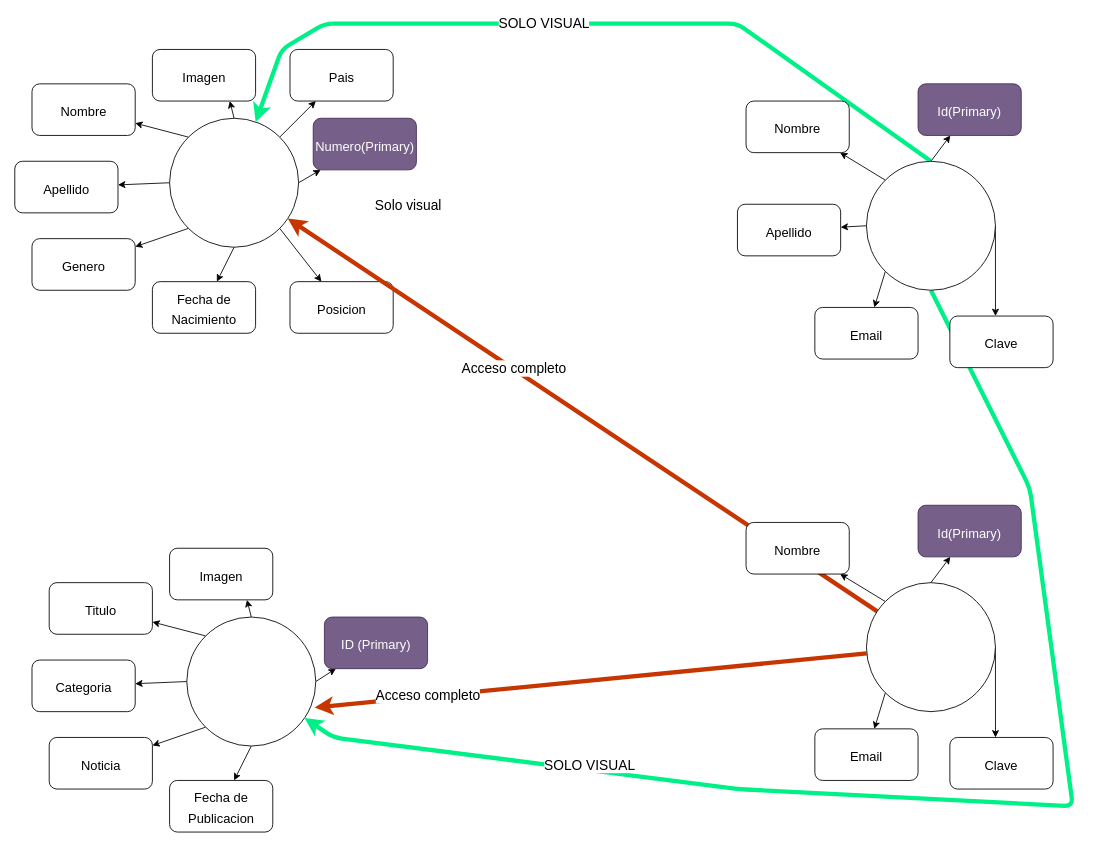
Image size: 1097x847. Some labels were removed from this diagram. The shapes that lost their labels are listed below. From the top down, each one's box as (x1, y1, x2, y2) in pixels, then its label:
(169, 117, 299, 247): Deportistas
(866, 160, 995, 290): Usuarios
(866, 582, 995, 712): Administradores
(186, 616, 316, 746): Noticias
